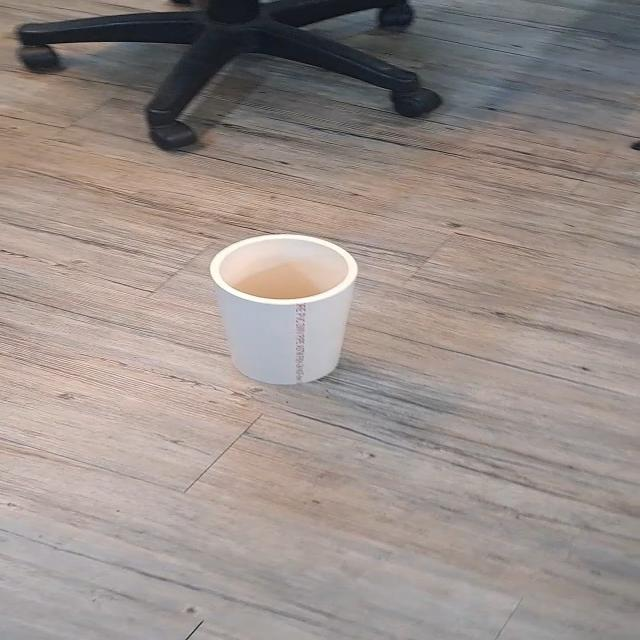CORAL: (194, 234, 378, 394)
